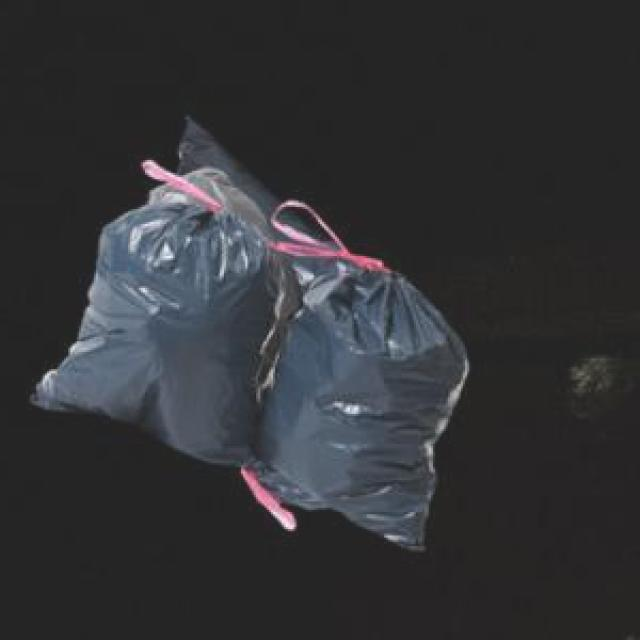Trashbag: (24, 195, 290, 474), (268, 256, 480, 560)
